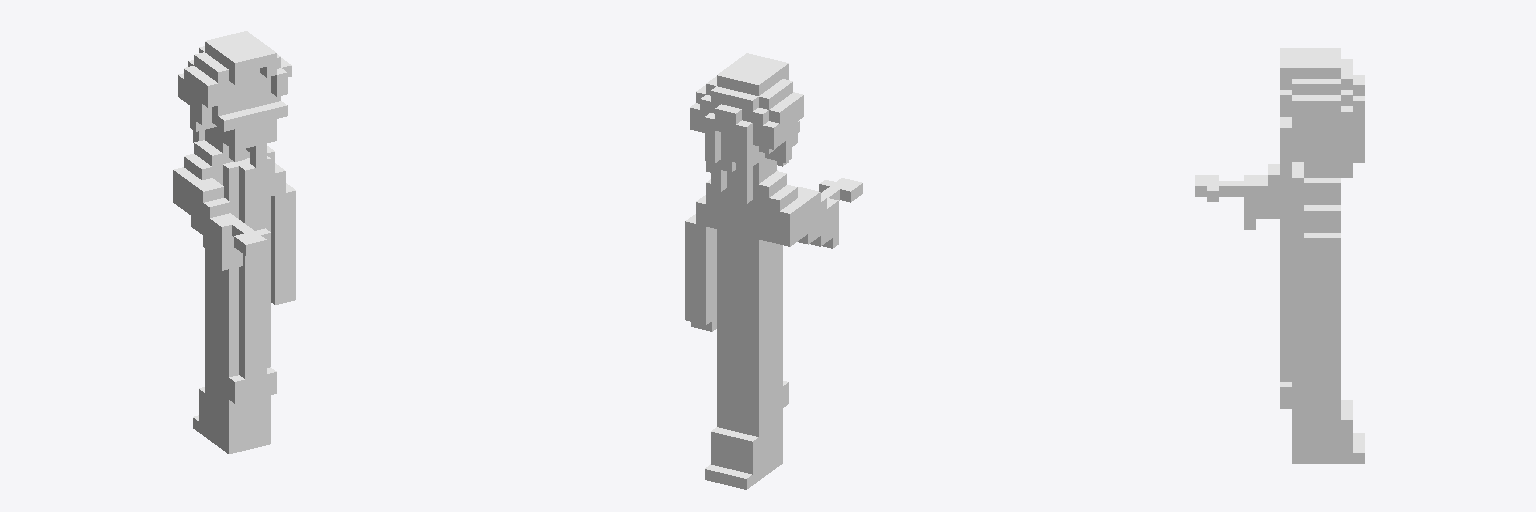
File: NecromacerModel.obj
The picture shows the model from 3 angles: view 1: azimuth 30°, elevation 25°; view 2: azimuth 150°, elevation 25°; view 3: azimuth 270°, elevation 25°; orthographic projection.
Parts seen in each view (by area): view 1: object 1; view 2: object 1; view 3: object 1.
Part boxes in pixels (x1,y1,x2,y2): object 1: (173, 31, 295, 453); object 1: (685, 53, 862, 489); object 1: (1195, 48, 1364, 463).
Bounding box in the file's own units: 1 × 3.6 × 1.4.